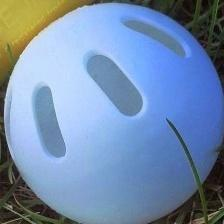Sports-Ball: (4, 4, 224, 224)
